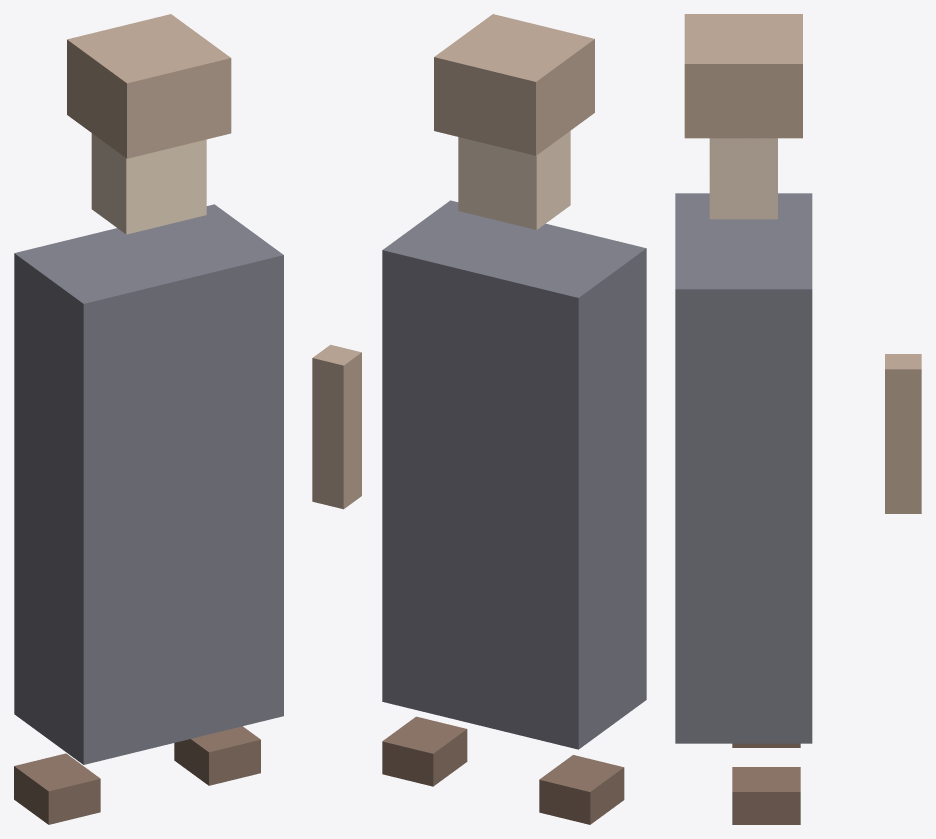
Rendered from sufi-mystic.glb.
3 renders of one model, left to right at view 1: azimuth 30°, elevation 25°; view 2: azimuth 150°, elevation 25°; view 3: azimuth 270°, elevation 25°, orthographic. The views are drawn at different scales.
Parts seen in each view (by area): view 1: SufiRobe, Turban, Head, SandalsLeft, SandalsRight; view 2: SufiRobe, Turban, Head, PrayerBeads, SandalsRight, SandalsLeft; view 3: SufiRobe, Turban, PrayerBeads, Head, SandalsRight.
Boxes of the visible parts, x1,y1,x2,y2 form: SufiRobe: (14,204,283,764); Turban: (67,14,231,158); Head: (91,133,206,234); SandalsLeft: (14,753,100,824); SandalsRight: (174,726,260,785); SufiRobe: (382,200,646,749); Turban: (434,14,594,155); Head: (458,131,570,229); PrayerBeads: (312,344,361,509); SandalsRight: (382,716,467,786); SandalsLeft: (539,755,624,824); SufiRobe: (675,193,812,743); Turban: (684,14,802,138); PrayerBeads: (885,354,921,513); Head: (709,138,777,219); SandalsRight: (732,767,800,824).
Size of the model in its own units: 0.555 by 1.78 by 0.54.
